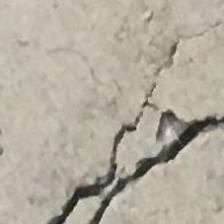Crack: (33, 47, 224, 223)
